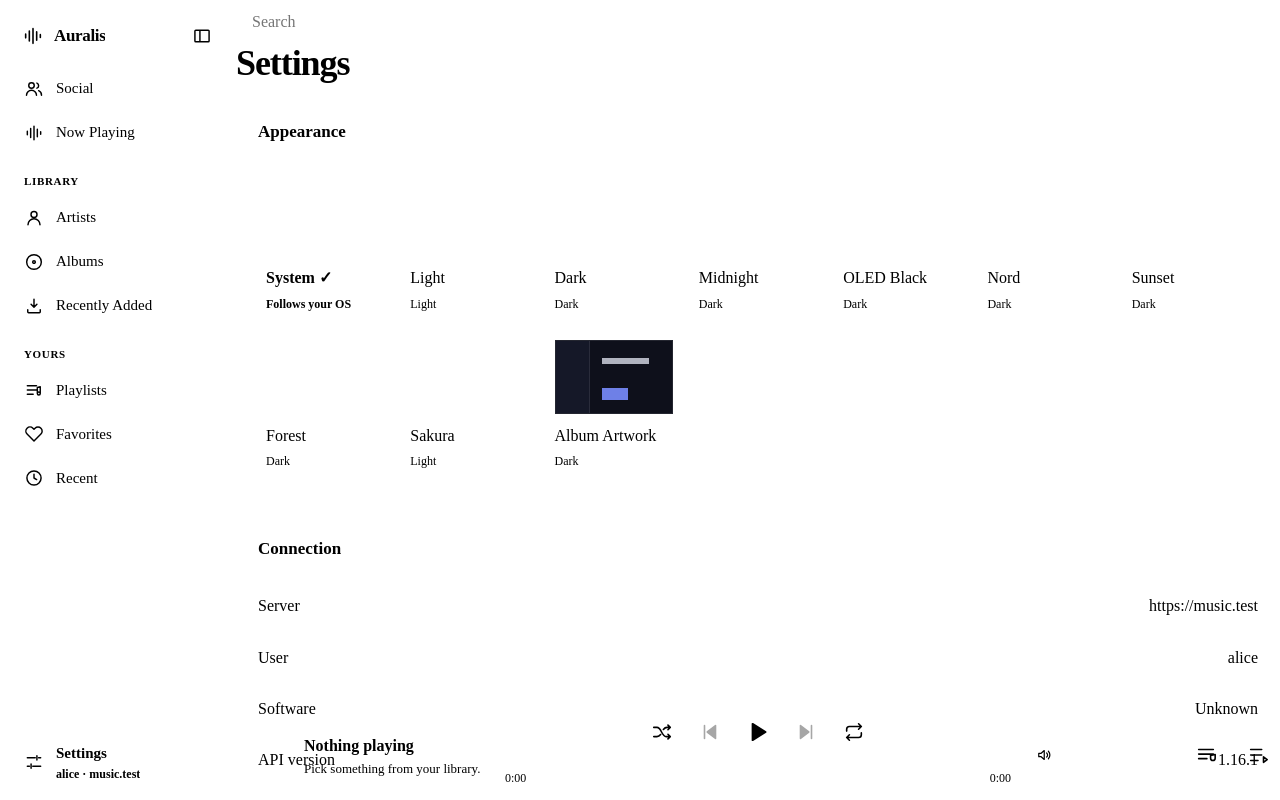
Test: theme picker › keeps the artwork palette while navigating between pages
Click the radio button labelled "Album Artwork".
click(614, 406)  # box left=547, top=332, right=681, bottom=480
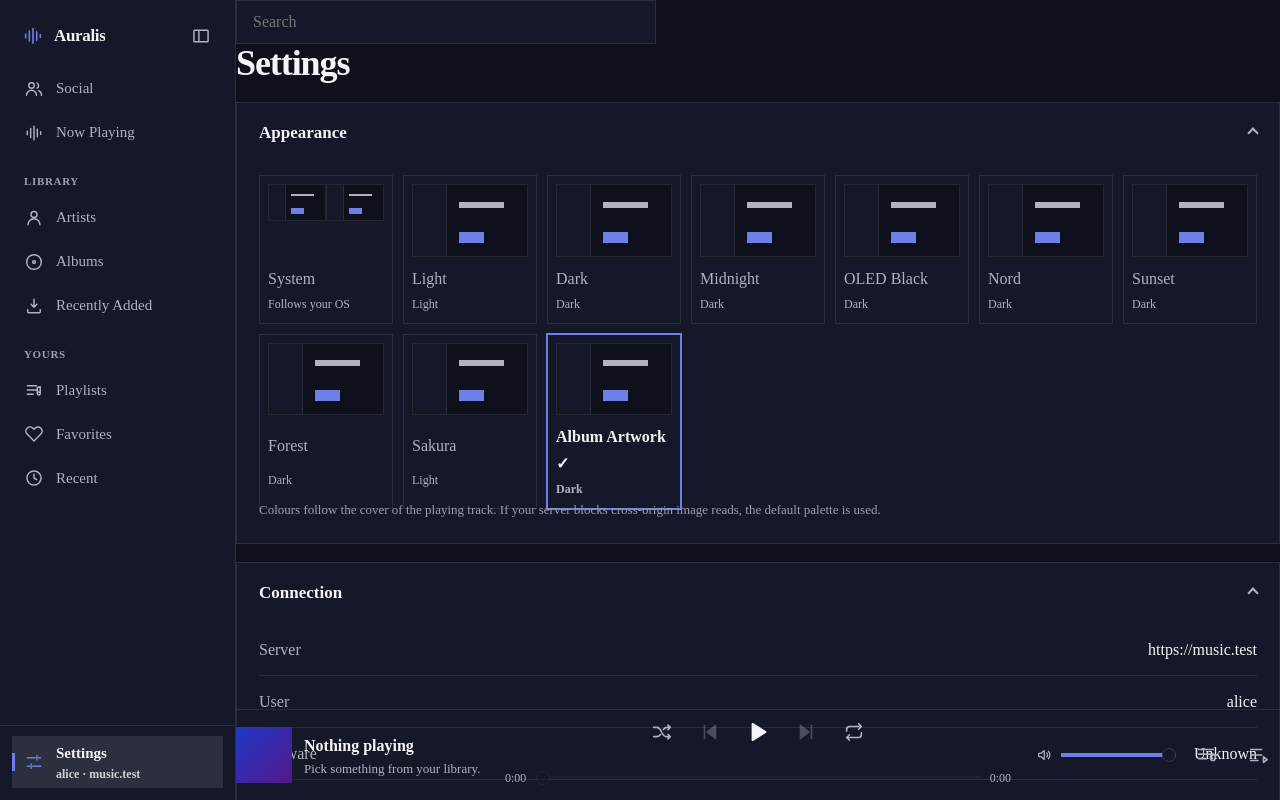
Click the link "Albums".
click(64, 262)  # box left=24, top=252, right=104, bottom=272
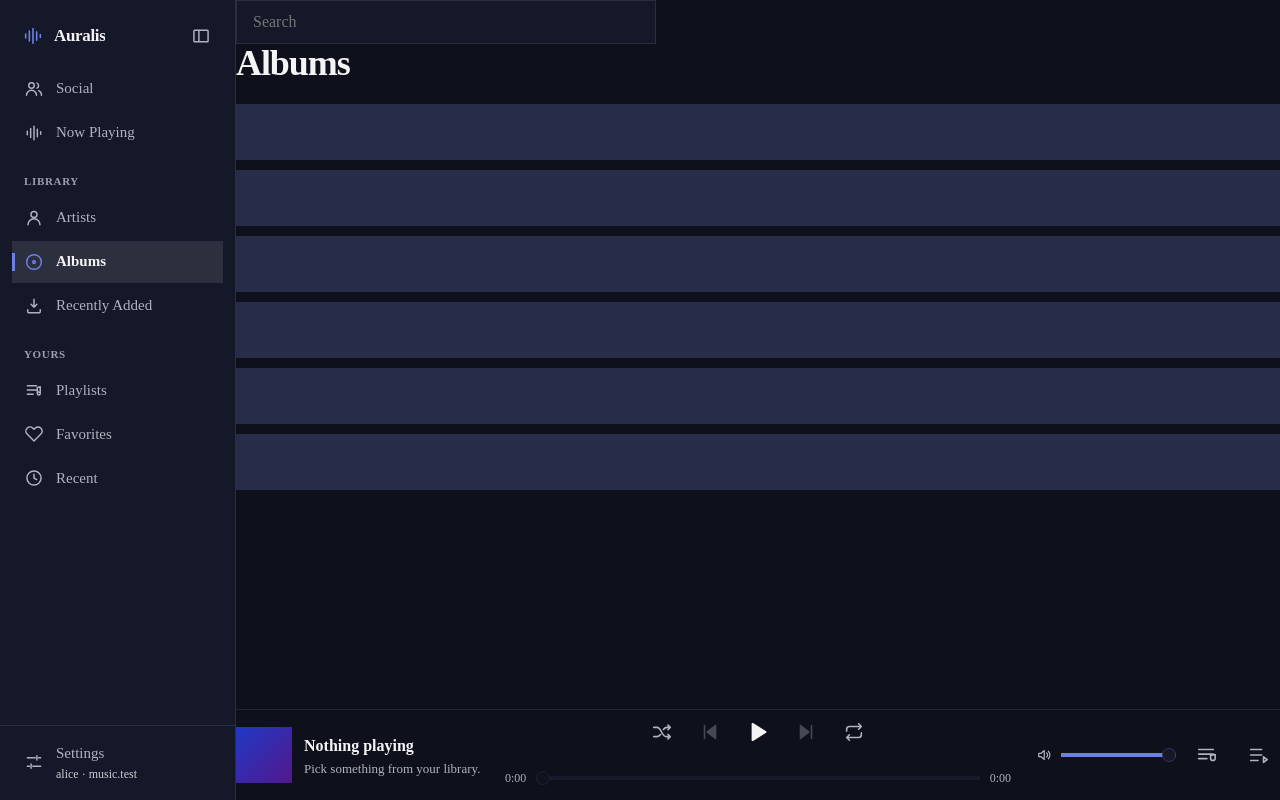
Result: the heading "Albums" is shown at left=236, top=43, right=350, bottom=83
Click the link "Settings alice · music.test".
click(80, 763)  # box left=24, top=746, right=137, bottom=781
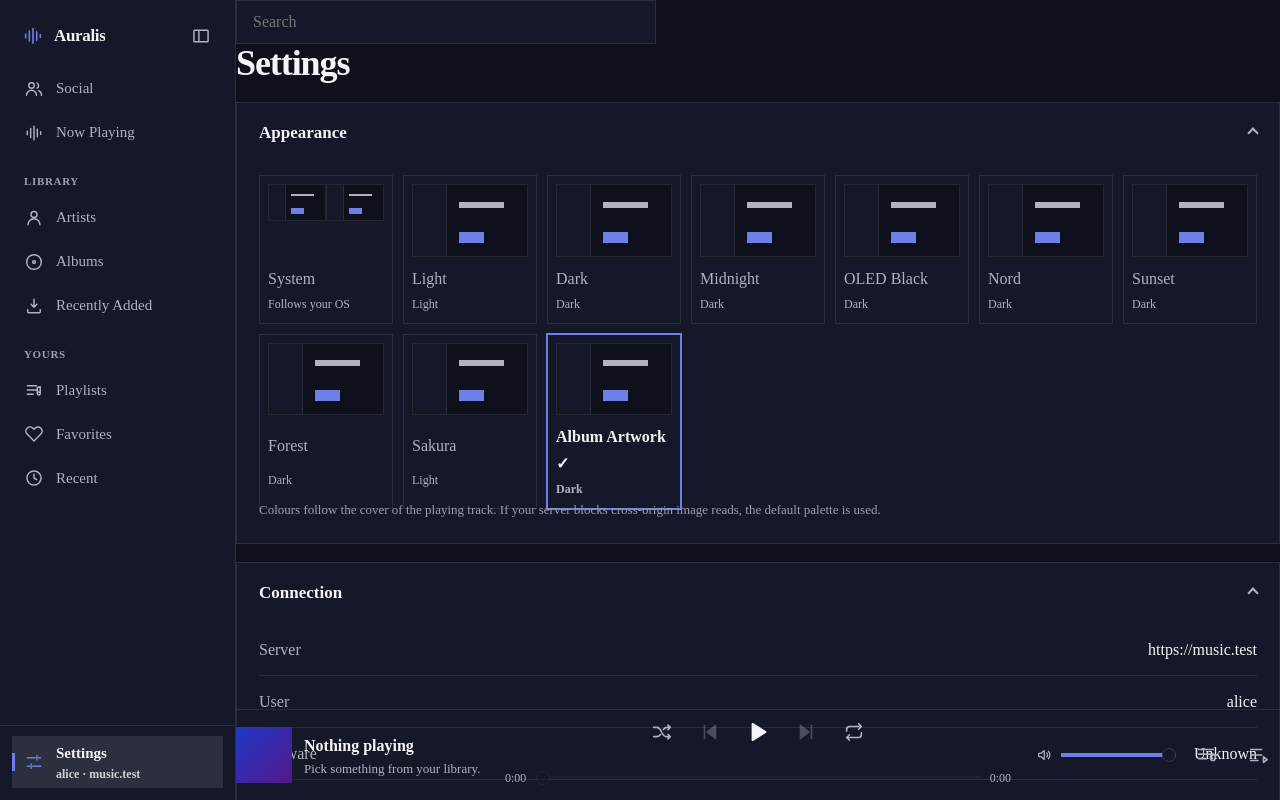
Result: the element named "Theme" is shown at left=259, top=176, right=1257, bottom=509
